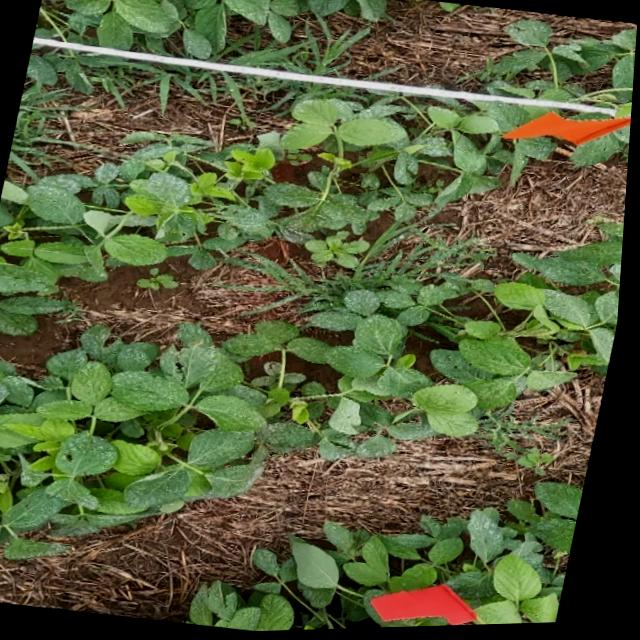caruru_weed: (140, 269, 183, 291)
grassy_weed: (76, 55, 290, 130), (219, 251, 360, 326), (9, 53, 83, 180), (369, 229, 489, 284), (490, 408, 578, 479), (273, 19, 346, 71), (317, 29, 371, 74), (236, 45, 304, 66), (282, 81, 364, 96), (318, 316, 360, 331)
soy_plant: (0, 228, 627, 558), (0, 102, 499, 333), (196, 486, 589, 633), (64, 0, 386, 59), (483, 22, 638, 118), (431, 104, 559, 212), (573, 128, 633, 170)
